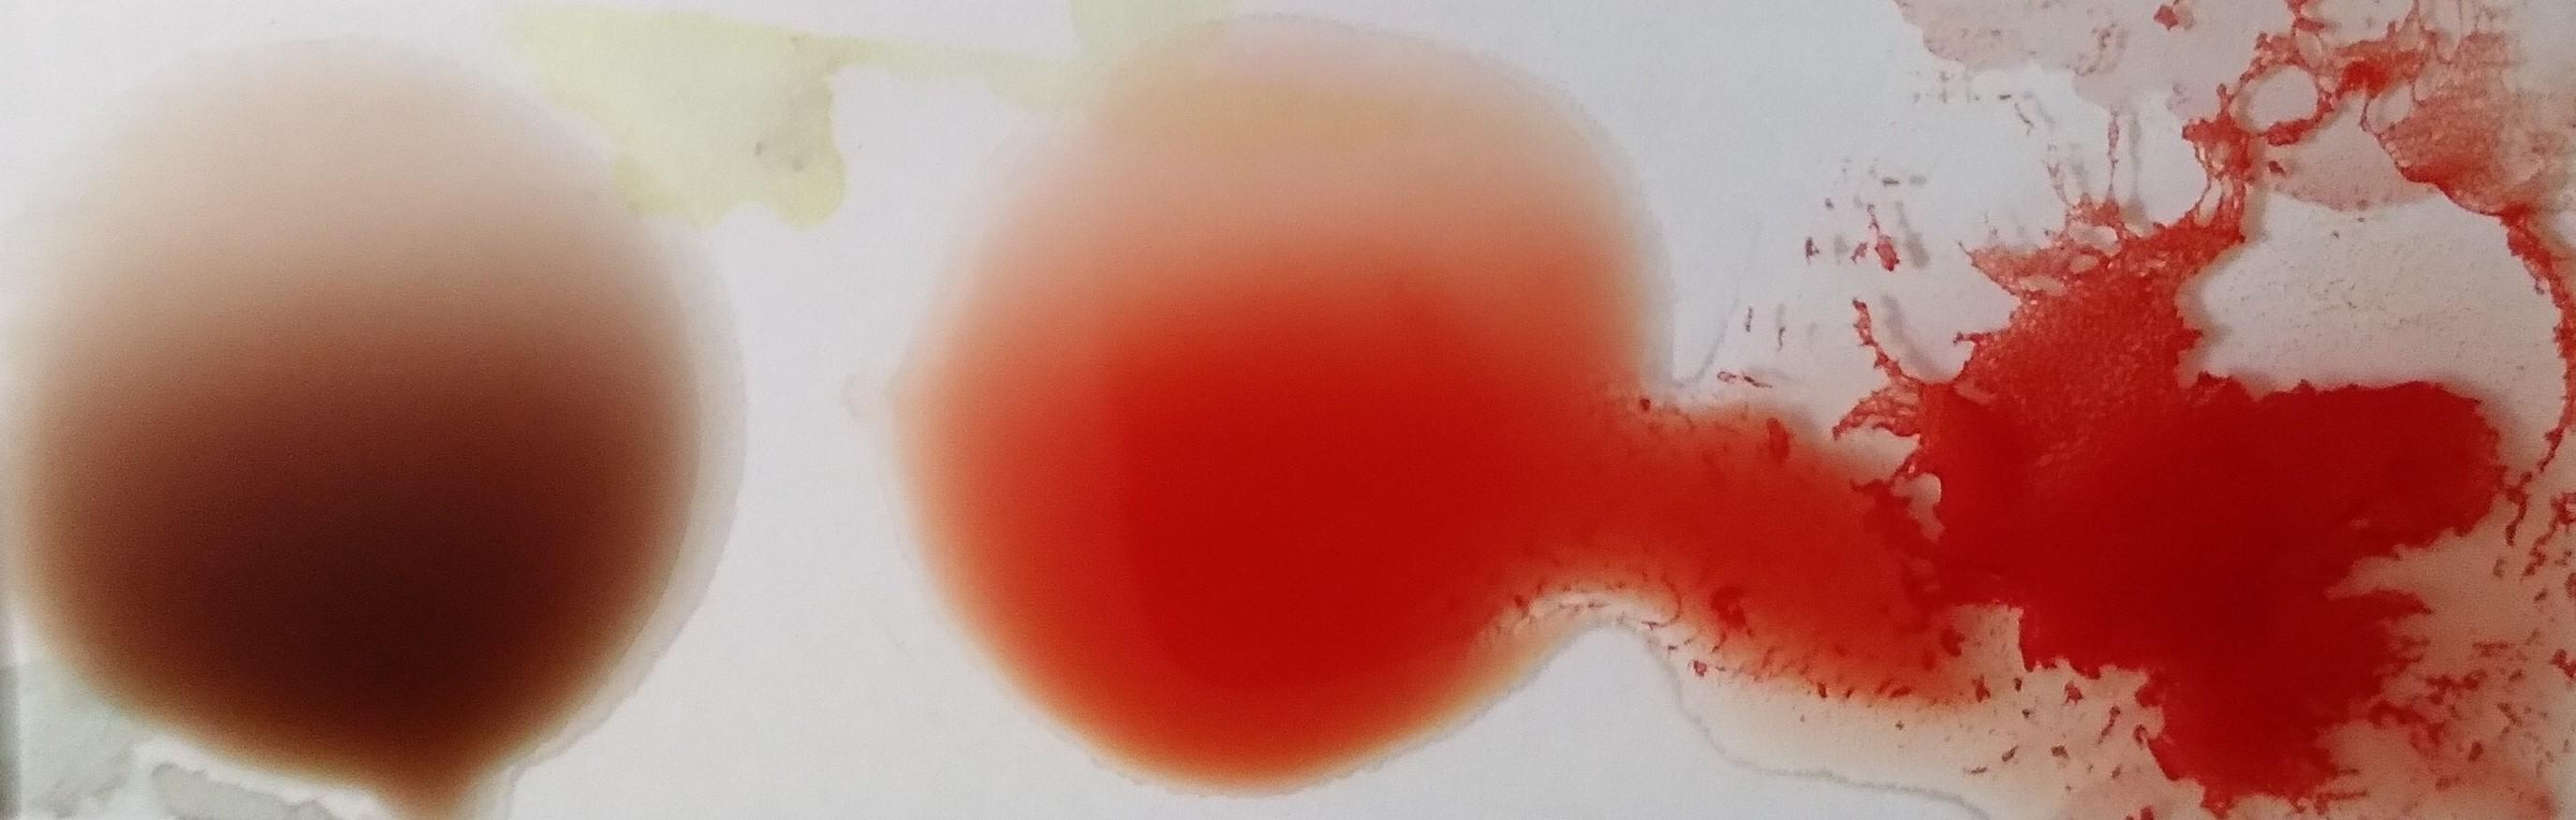D: (1828, 31, 2576, 820)
